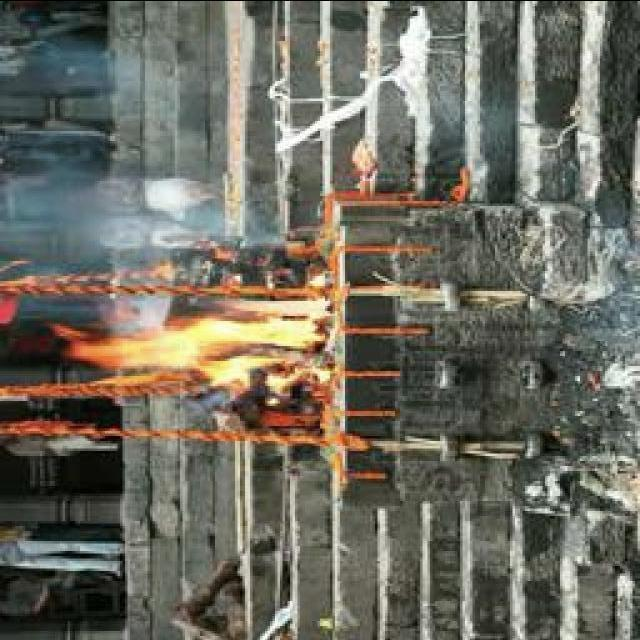Fire: (79, 290, 335, 395)
